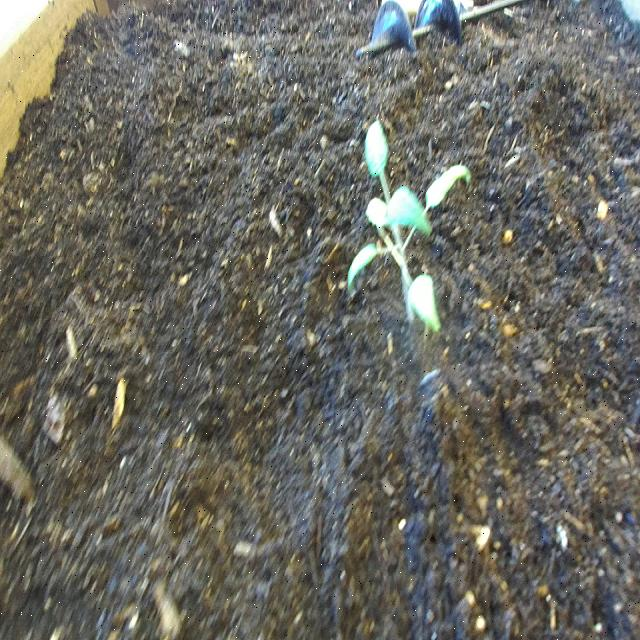Healthy: (338, 110, 478, 350)
